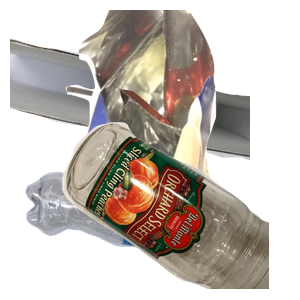cardboard: (10, 35, 250, 188)
glass: (60, 120, 300, 300)
plastic: (23, 169, 243, 300)
trash: (63, 10, 300, 190)
